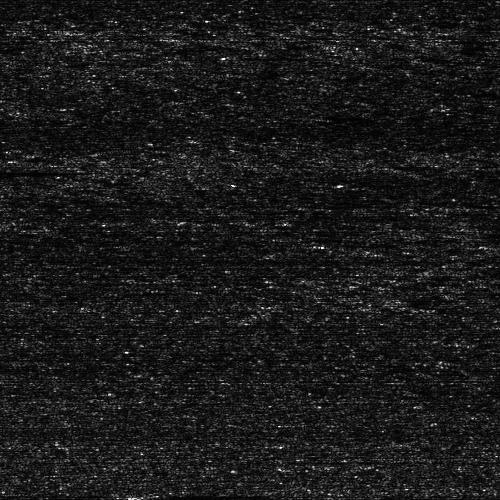object: (84, 491, 147, 496), (436, 230, 489, 235)
shadow: (115, 491, 216, 496), (0, 167, 48, 176), (462, 230, 500, 235)
